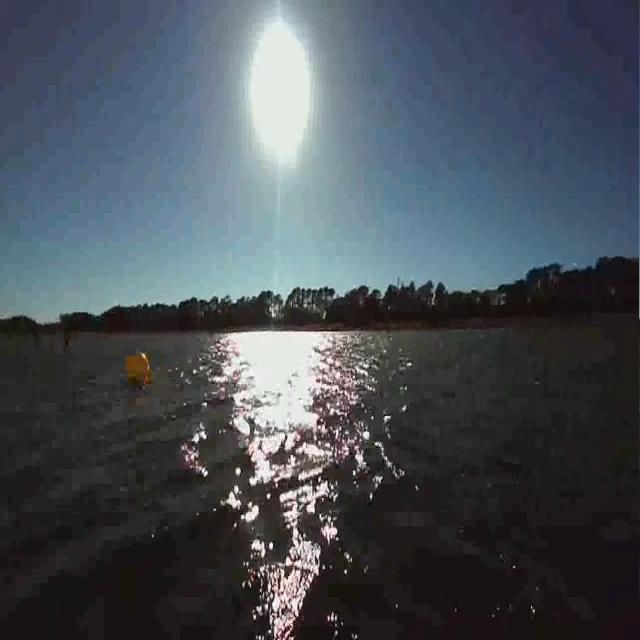yellow-buoy: (119, 346, 152, 392)
